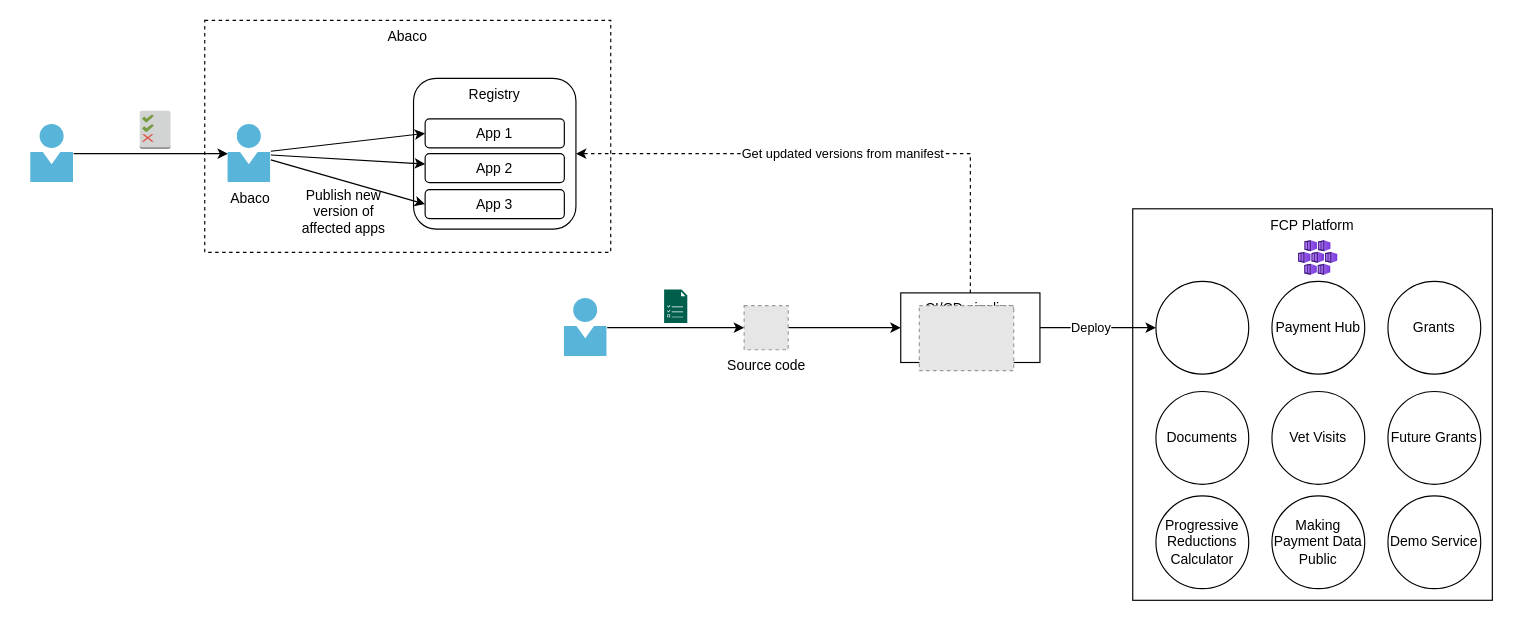
Some shapes in this 1513 by 621 pixel diagram are drawn without their labels. Grey dashed boxes stand in for pictures. The shapes that lost their labels are listed below. From the top down, each one's centre as x and y in pixels, then its label:
At (155,129): "Requirements".
At (51,153): "Defra/RPA".
At (675,305): "Updated Manifest".
At (585,327): "DDTS".
At (1202,327): "Abaco Agri".
